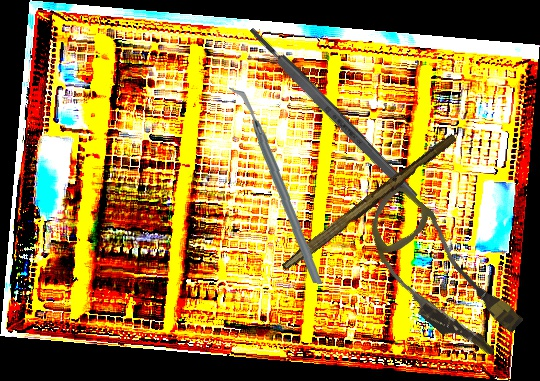Cannula: (341, 181, 538, 369)
Chopper: (222, 87, 329, 284)
Scalpel Handle: (246, 24, 420, 203), (280, 129, 459, 277)
